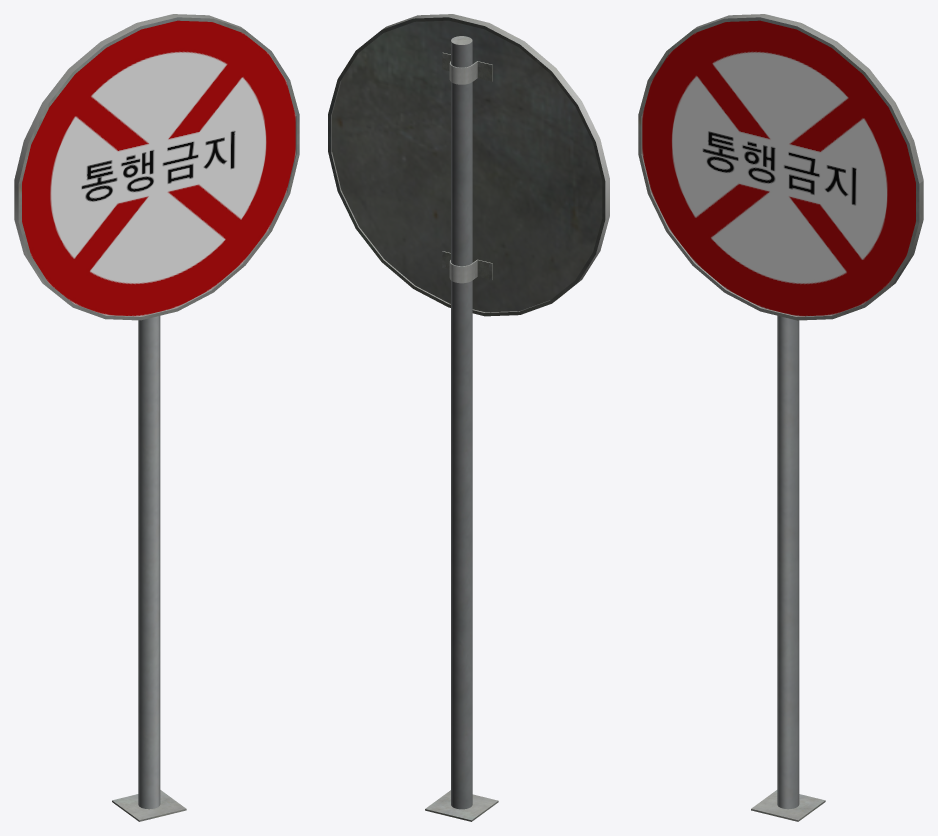
The picture shows the model from 3 angles, left to right: view 1: azimuth 30°, elevation 25°; view 2: azimuth 150°, elevation 25°; view 3: azimuth 330°, elevation 25°; orthographic projection.
Parts seen in each view (by area): view 1: MainBuilding; view 2: MainBuilding; view 3: MainBuilding.
Part boxes in pixels (<box>): MainBuilding: <box>14,14,299,821</box>; MainBuilding: <box>328,14,609,821</box>; MainBuilding: <box>638,14,923,821</box>.
Size of the model in its own units: 0.8923 by 2.4 by 0.15.
Materials: 1 (1 with a texture image).
